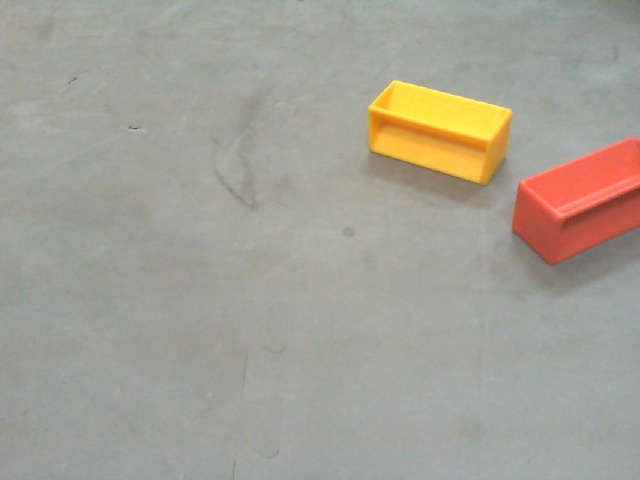RedSample: (510, 137, 640, 260)
YellowSample: (367, 78, 513, 186)
